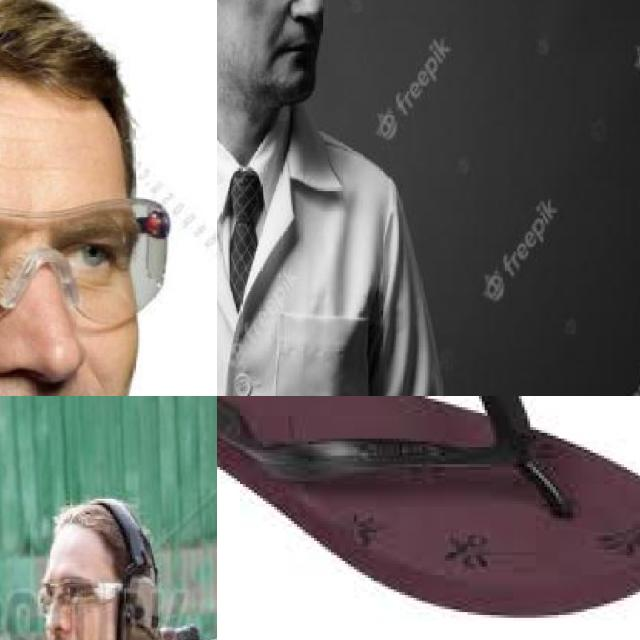Ear-protection: (115, 557, 162, 640)
Sandals: (217, 396, 640, 640)
face_nomask: (0, 223, 139, 396), (236, 0, 330, 78), (30, 571, 102, 640)
glasses: (0, 194, 172, 335), (34, 573, 122, 617)
head_nohelmet: (0, 0, 122, 142), (38, 492, 157, 564)
person: (217, 0, 427, 396), (0, 480, 217, 640)
